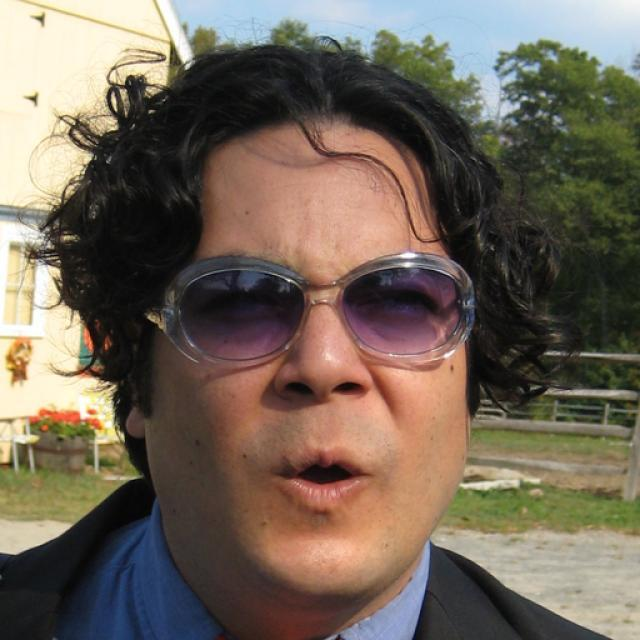anger: (150, 142, 471, 596)
